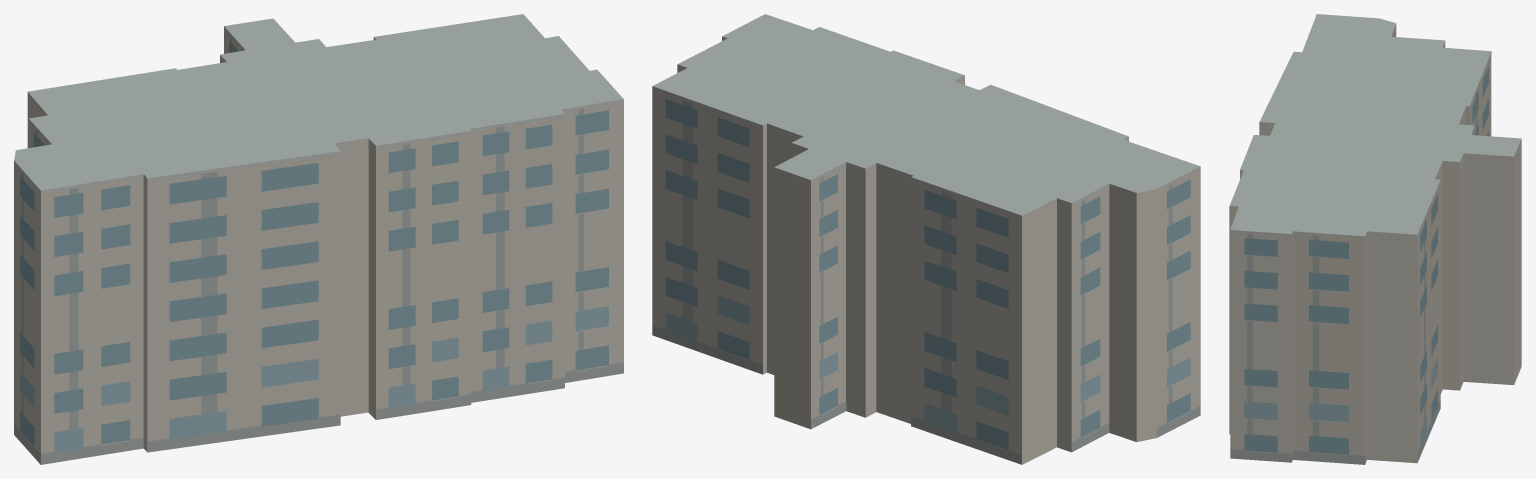
The model's file is survey-upis-33005493.glb.
3 renders of one model, left to right at view 1: azimuth 30°, elevation 25°; view 2: azimuth 150°, elevation 25°; view 3: azimuth 270°, elevation 25°, orthographic. The views are drawn at different scales.
Visible parts, largest first — view 1: survey-upis-33005493.tmp; view 2: survey-upis-33005493.tmp; view 3: survey-upis-33005493.tmp.
Boxes of the visible parts, x1,y1,x2,y2 form: survey-upis-33005493.tmp: [14, 14, 623, 464]; survey-upis-33005493.tmp: [652, 14, 1200, 464]; survey-upis-33005493.tmp: [1229, 14, 1521, 464].
Bounding box in the file's own units: 44.99 × 21.55 × 24.97.
